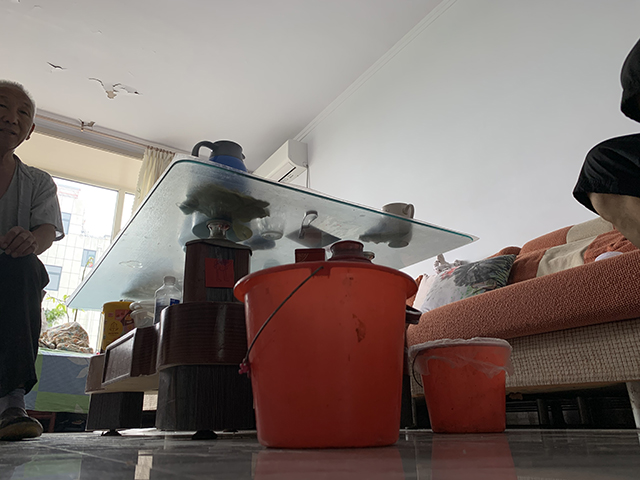sofa: (406, 216, 640, 429)
table: (64, 152, 481, 441)
trashcan: (407, 336, 510, 434)
